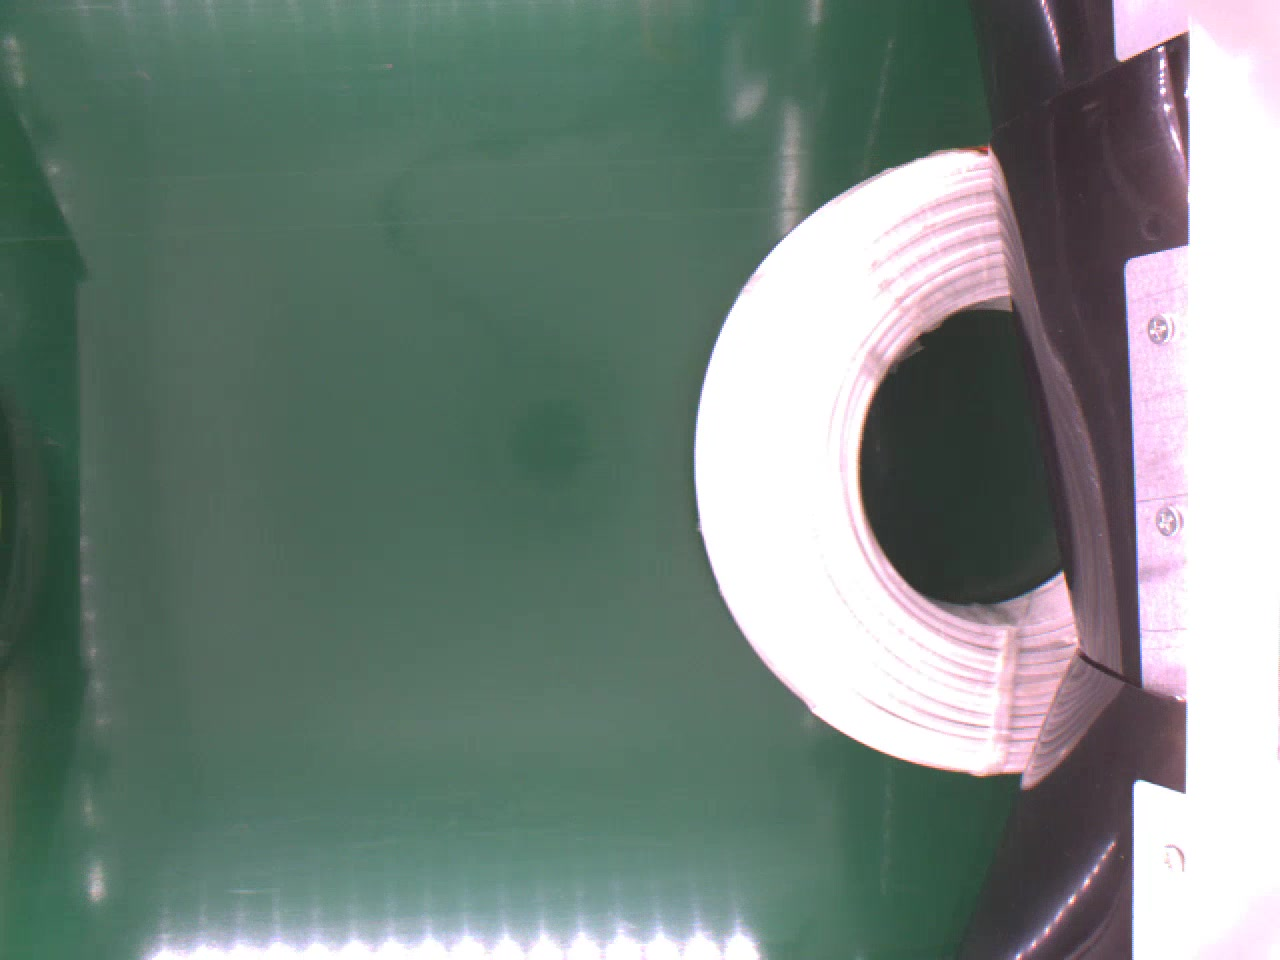white: (688, 136, 1079, 775)
